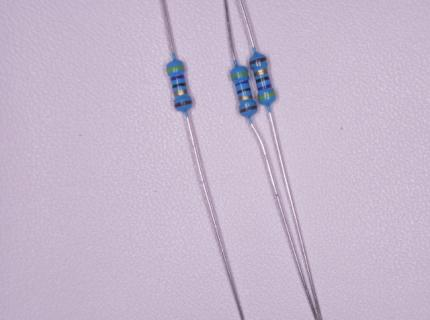Gold band: (173, 89, 188, 97), (254, 69, 268, 76), (239, 95, 252, 101)
Violet band: (235, 80, 249, 87), (258, 84, 272, 91), (170, 75, 184, 81)
Yellow band: (258, 91, 275, 100), (231, 71, 248, 79), (167, 66, 184, 73)
